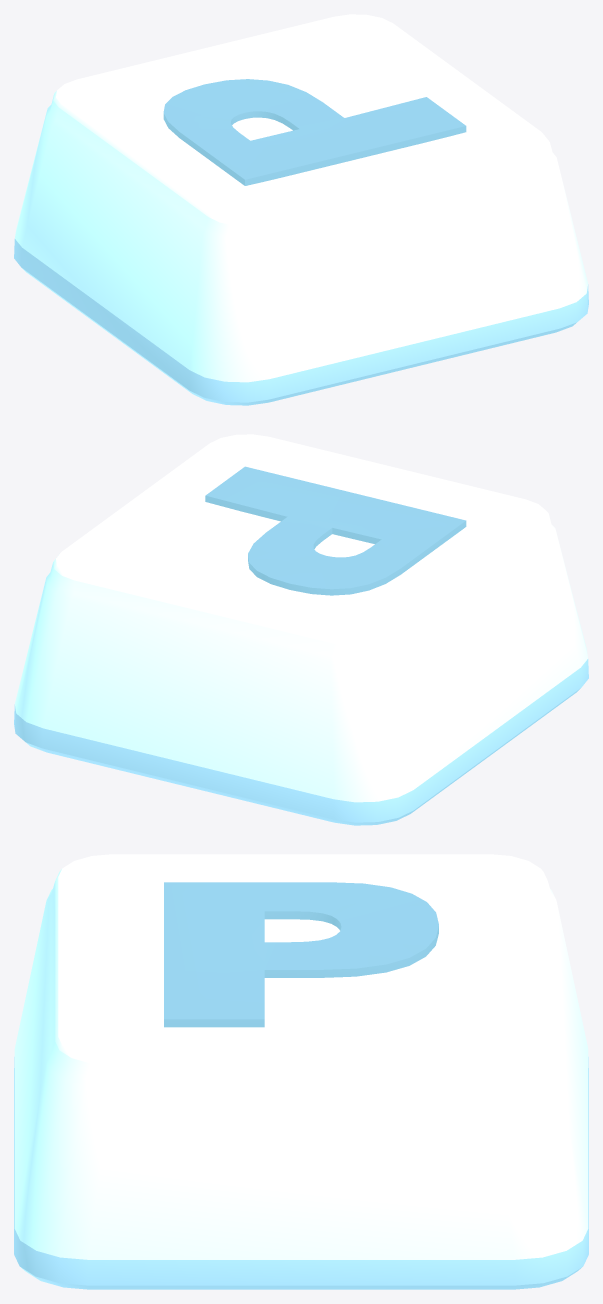
The model's file is props__Key_P.glb.
3 renders of one model, top to bottom at view 1: azimuth 30°, elevation 25°; view 2: azimuth 150°, elevation 25°; view 3: azimuth 270°, elevation 25°, orthographic. The views are drawn at different scales.
Visible parts, largest first — view 1: Key_P; view 2: Key_P; view 3: Key_P.
Boxes of the visible parts, x1,y1,x2,y2 form: Key_P: [14, 14, 588, 405]; Key_P: [14, 434, 588, 825]; Key_P: [14, 854, 588, 1289].
Size of the model in its own units: 3.9 by 1.65 by 3.9.
